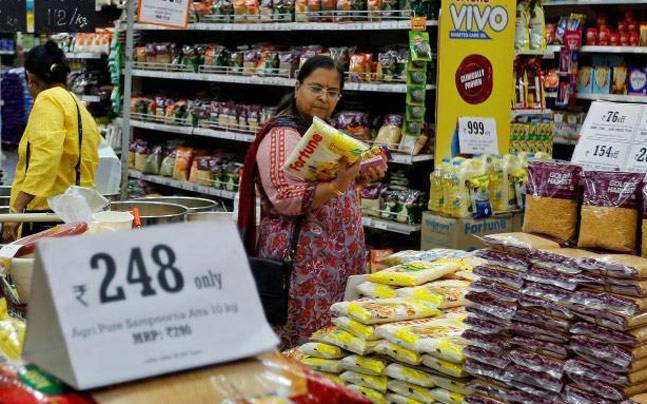Age_40_50: (302, 60, 344, 118)
E_Indian: (302, 60, 344, 118)
Emotion_Angry: (302, 60, 344, 118)
G_ Female: (302, 60, 344, 118)
Not_Face: (23, 50, 70, 88)
